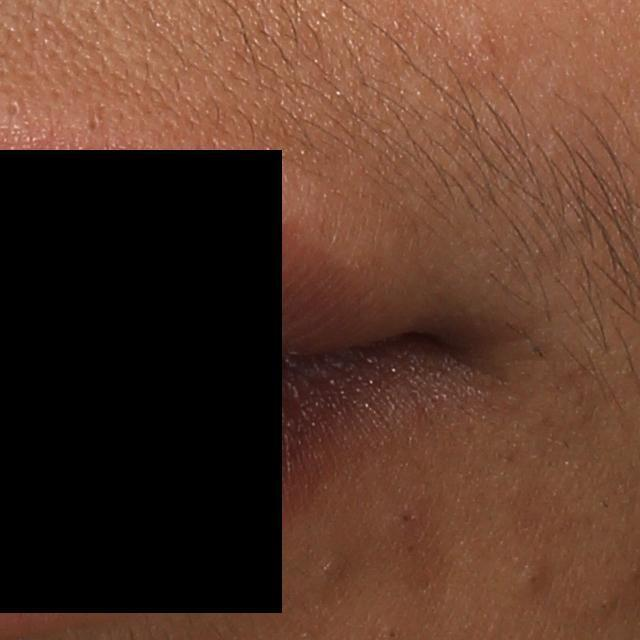comedo: (521, 560, 550, 594), (1, 96, 24, 119)
